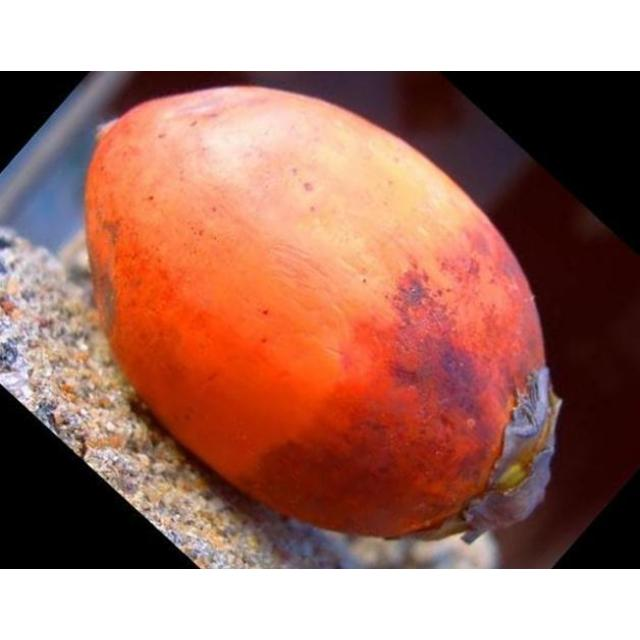good: (84, 85, 564, 545)
